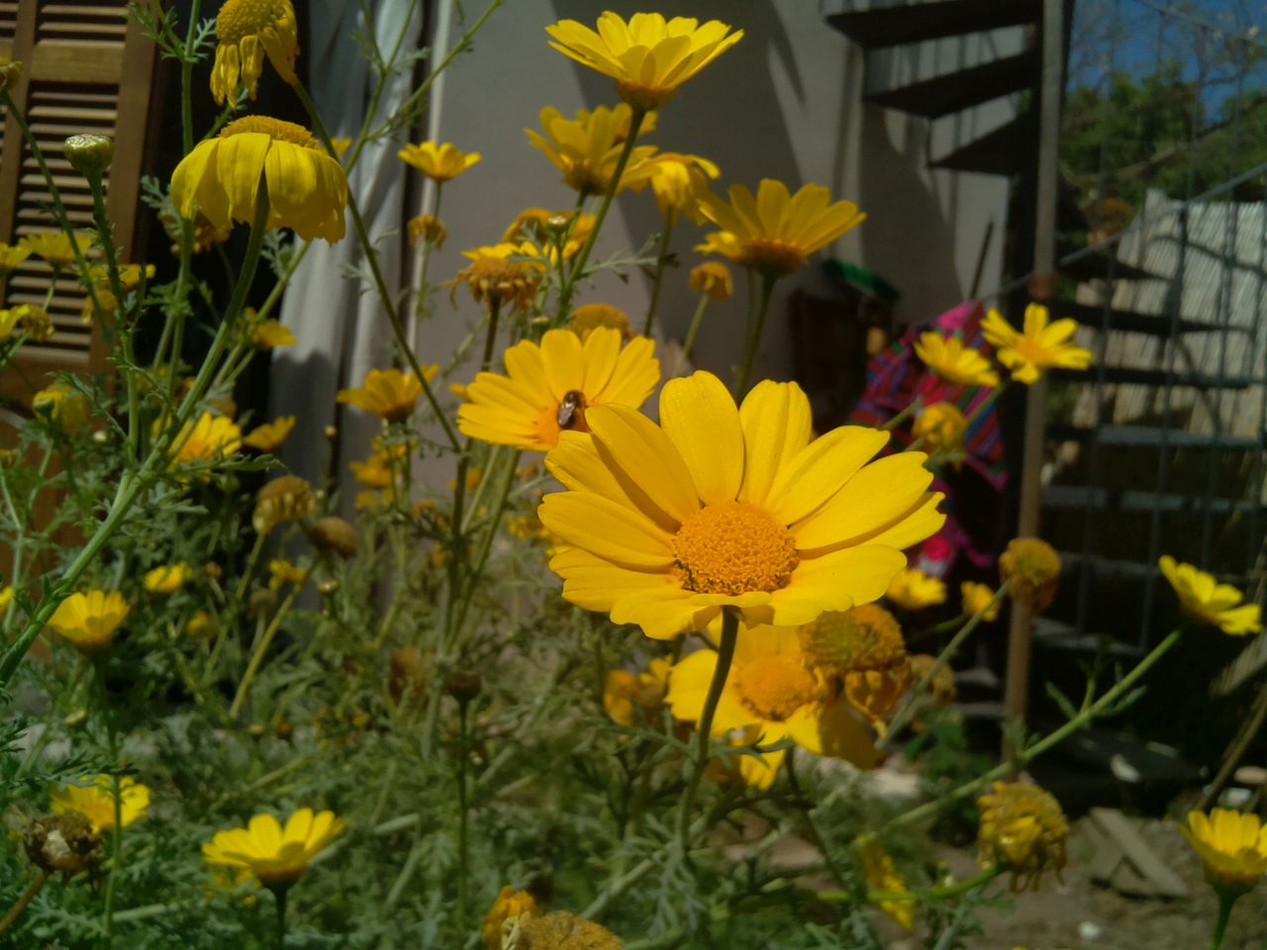bee: (555, 385, 596, 429)
